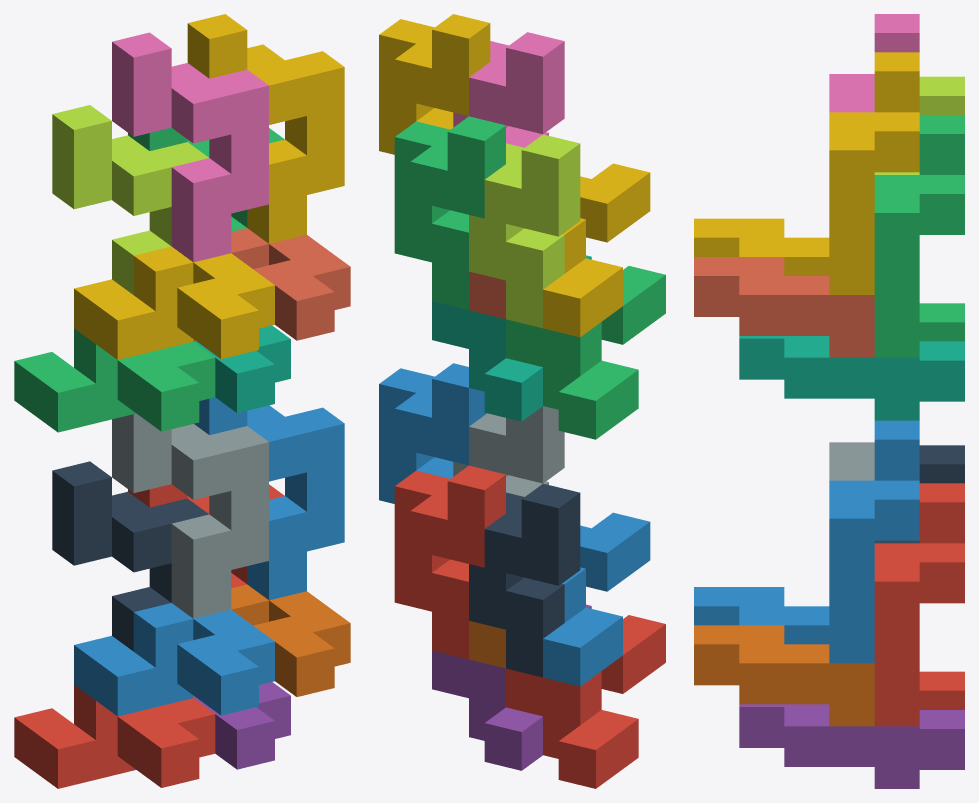
The model's file is tiling.obj.
The picture shows the model from 3 angles, left to right: view 1: azimuth 30°, elevation 25°; view 2: azimuth 150°, elevation 25°; view 3: azimuth 270°, elevation 25°; orthographic projection. The views are drawn at different scales.
Visible parts, largest first — view 1: copy_2_domain_4, copy_2_domain_2, copy_1_domain_2, copy_1_domain_4, copy_2_domain_8, copy_2_domain_6, copy_1_domain_1, copy_1_domain_3, copy_2_domain_3, copy_2_domain_1, copy_1_domain_6, copy_1_domain_8 (+4 smaller); view 2: copy_2_domain_1, copy_2_domain_3, copy_2_domain_5, copy_2_domain_7, copy_1_domain_1, copy_1_domain_3, copy_2_domain_8, copy_2_domain_6, copy_1_domain_4, copy_1_domain_2, copy_2_domain_4, copy_1_domain_7 (+4 smaller); view 3: copy_2_domain_5, copy_2_domain_6, copy_2_domain_8, copy_2_domain_7, copy_1_domain_7, copy_1_domain_5, copy_1_domain_6, copy_1_domain_8, copy_1_domain_2, copy_1_domain_4, copy_2_domain_4, copy_2_domain_1 (+4 smaller).
Part boxes in pixels (bbox=[...]): copy_2_domain_4: bbox=[112, 32, 268, 262]; copy_2_domain_2: bbox=[112, 413, 268, 618]; copy_1_domain_2: bbox=[74, 603, 274, 716]; copy_1_domain_4: bbox=[74, 246, 274, 359]; copy_2_domain_8: bbox=[187, 14, 344, 243]; copy_2_domain_6: bbox=[194, 397, 344, 600]; copy_1_domain_1: bbox=[14, 685, 215, 788]; copy_1_domain_3: bbox=[14, 328, 215, 432]; copy_2_domain_3: bbox=[52, 105, 208, 294]; copy_2_domain_1: bbox=[52, 461, 208, 651]; copy_1_domain_6: bbox=[193, 584, 350, 697]; copy_1_domain_8: bbox=[193, 228, 350, 341]; copy_2_domain_1: bbox=[469, 483, 580, 677]; copy_2_domain_3: bbox=[469, 134, 580, 328]; copy_2_domain_5: bbox=[394, 465, 505, 659]; copy_2_domain_7: bbox=[394, 116, 505, 310]; copy_1_domain_1: bbox=[506, 615, 665, 788]; copy_1_domain_3: bbox=[506, 266, 665, 439]; copy_2_domain_8: bbox=[379, 14, 490, 154]; copy_2_domain_6: bbox=[379, 363, 486, 503]; copy_1_domain_4: bbox=[543, 163, 650, 337]; copy_1_domain_2: bbox=[543, 512, 650, 686]; copy_2_domain_4: bbox=[453, 32, 564, 147]; copy_1_domain_7: bbox=[432, 255, 591, 421]; copy_2_domain_5: bbox=[874, 483, 964, 726]; copy_2_domain_6: bbox=[829, 420, 919, 663]; copy_2_domain_8: bbox=[829, 52, 919, 294]; copy_2_domain_7: bbox=[874, 115, 964, 357]; copy_1_domain_7: bbox=[739, 336, 964, 420]; copy_1_domain_5: bbox=[739, 704, 964, 788]; copy_1_domain_6: bbox=[694, 625, 874, 726]; copy_1_domain_8: bbox=[694, 257, 874, 357]; copy_1_domain_2: bbox=[694, 587, 829, 644]; copy_1_domain_4: bbox=[694, 218, 829, 275]; copy_2_domain_4: bbox=[829, 14, 919, 112]; copy_2_domain_1: bbox=[874, 445, 964, 543].
Bounding box in the file's own units: 7 × 18 × 6.
